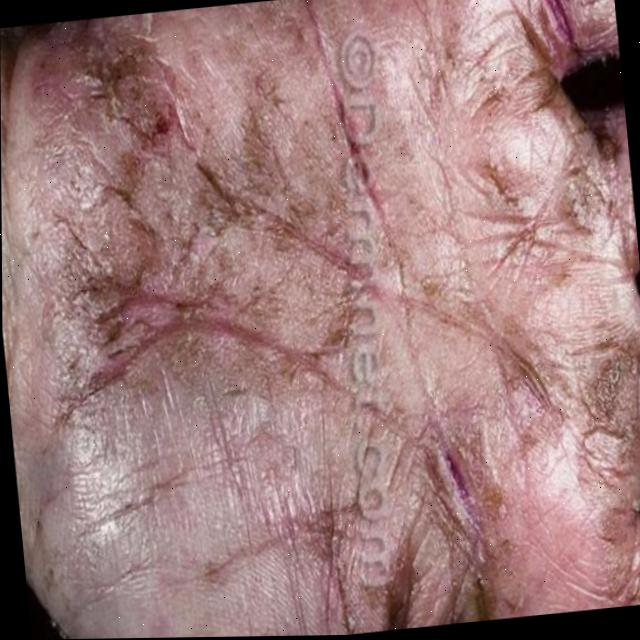Eczema: (80, 0, 640, 639)
